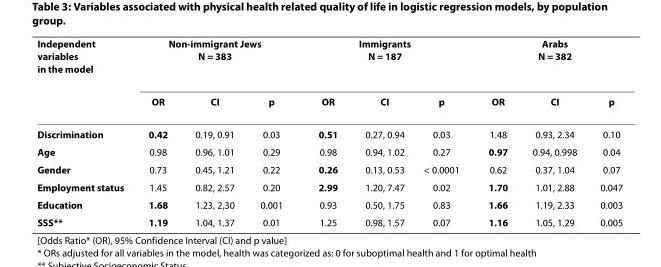table: (36, 36, 622, 227)
table column: (36, 36, 135, 227), (519, 36, 587, 227), (180, 36, 246, 227), (350, 36, 413, 227), (413, 36, 473, 227), (246, 36, 299, 227), (299, 36, 350, 227), (473, 36, 519, 227), (135, 36, 180, 227), (587, 36, 622, 227)
table column header: (36, 36, 622, 117)
table row: (36, 36, 622, 84), (36, 84, 622, 117), (36, 117, 622, 142), (36, 159, 622, 177), (36, 177, 622, 195), (36, 142, 622, 159), (36, 195, 622, 212), (36, 212, 622, 227)
table spanning cell: (299, 36, 473, 84), (36, 36, 135, 117), (135, 36, 299, 84), (473, 36, 622, 84)
